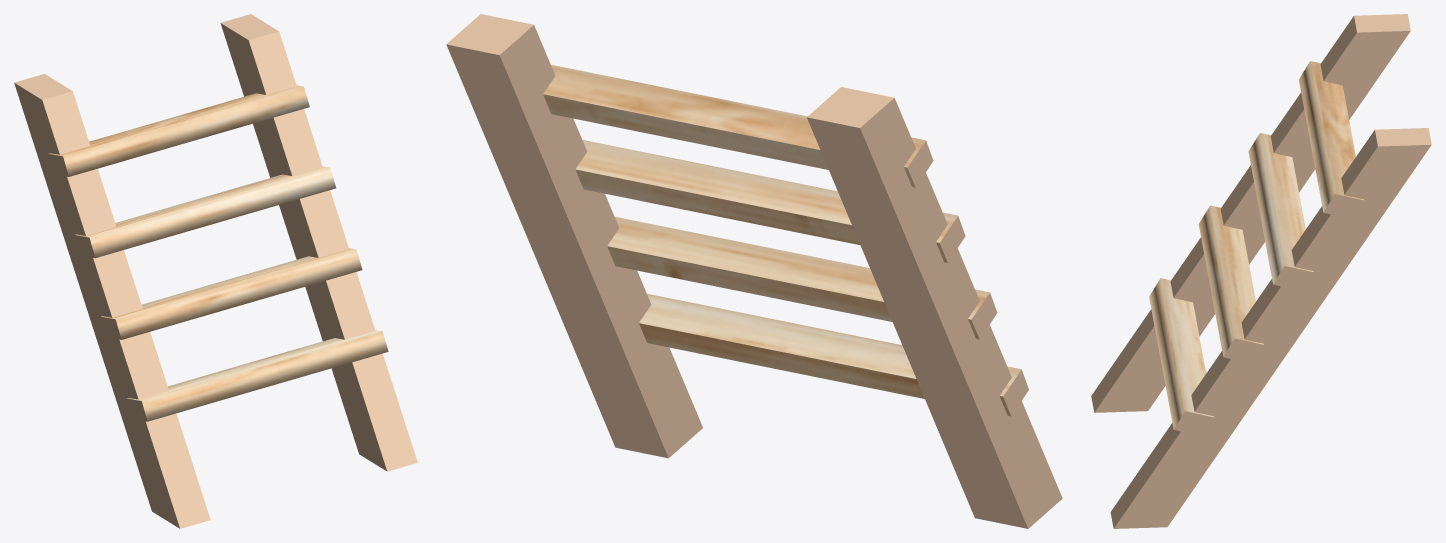
File: PlaygroundSet_Ladder.fbx
3 views of the same model, side by side, from view 1: azimuth 30°, elevation 25°; view 2: azimuth 150°, elevation 25°; view 3: azimuth 270°, elevation 25° (orthographic). The views are drawn at different scales.
Visible parts, largest first — view 1: PlaygroundSet_Ladder; view 2: PlaygroundSet_Ladder; view 3: PlaygroundSet_Ladder.
Part boxes in pixels (x1=…): PlaygroundSet_Ladder: x1=14, y1=14, x2=417, y2=528; PlaygroundSet_Ladder: x1=446, y1=14, x2=1062, y2=528; PlaygroundSet_Ladder: x1=1091, y1=14, x2=1431, y2=528.
Bounding box in the file's own units: 81.47 × 101 × 83.05.
1 material, 1 textured.
